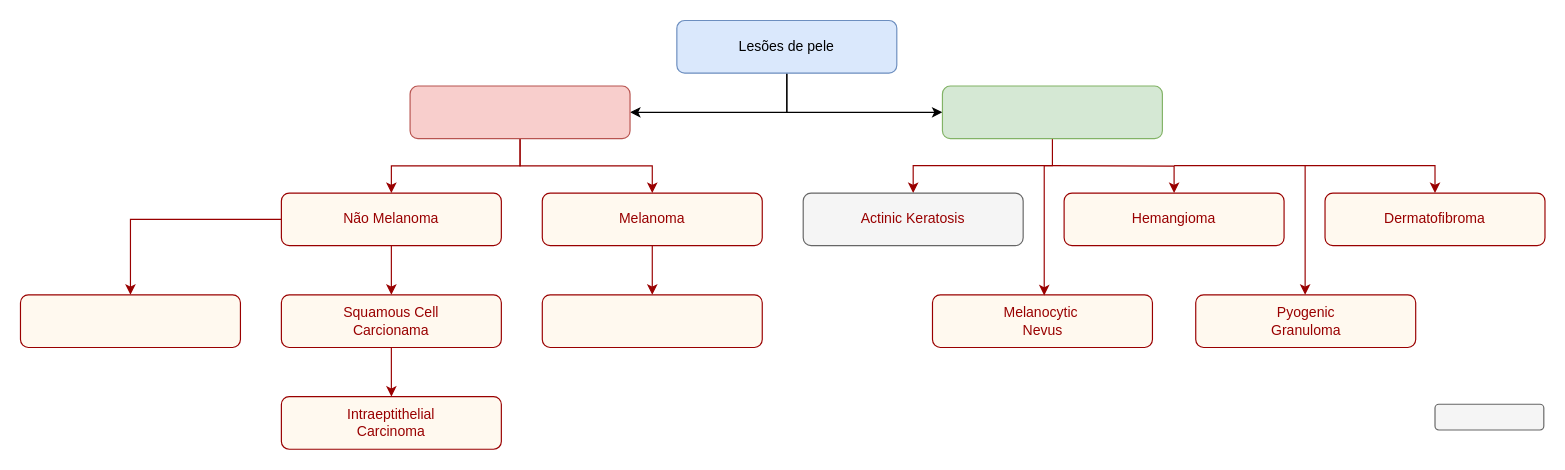
This 1565x470 diagram has some shape labels left out. Here are the shapes that lost their labels. From the top down, the centre of each, then its label:
[519,112]: Maligno
[1051,112]: Benigno
[129,320]: Basal Cell Carcinoma
[651,320]: Melanoma Maligno
[1489,416]: Pre cancer
